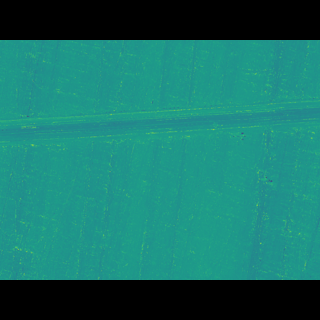Loch: (0, 112, 320, 154)
